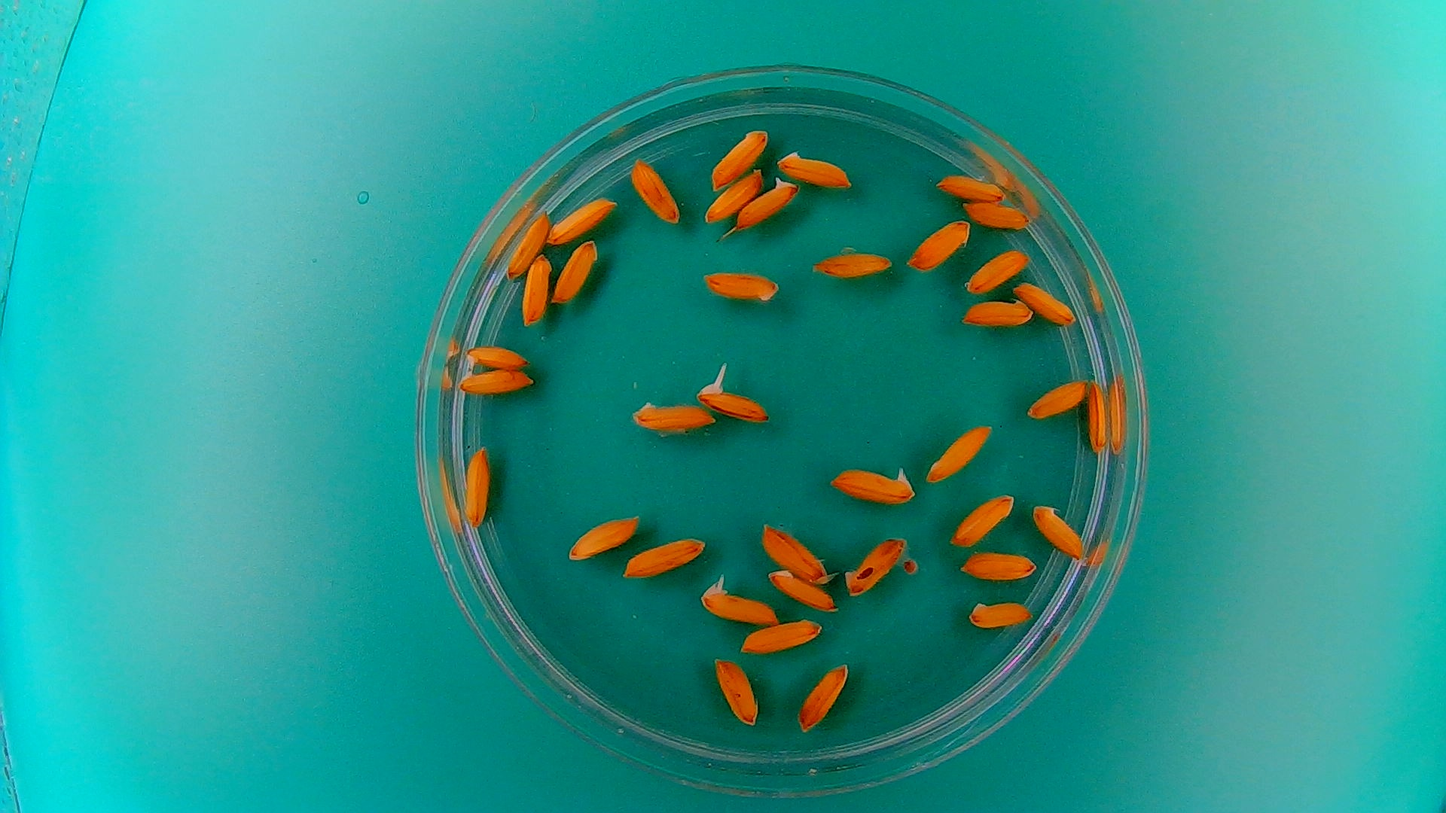no: (757, 519, 833, 583), (763, 562, 840, 620), (924, 421, 995, 483), (843, 532, 908, 598), (620, 533, 708, 580), (706, 124, 768, 190), (563, 510, 641, 562), (795, 659, 850, 732), (627, 153, 681, 226), (904, 218, 972, 275), (948, 491, 1015, 548), (545, 193, 618, 245), (701, 166, 764, 224), (712, 655, 761, 729), (1029, 500, 1089, 560), (775, 145, 855, 190), (627, 394, 716, 433), (504, 208, 551, 281), (550, 236, 601, 303), (740, 615, 825, 655), (699, 266, 782, 306), (963, 246, 1031, 294), (1011, 278, 1079, 326), (809, 244, 895, 279), (1024, 375, 1088, 422), (459, 441, 493, 529), (959, 547, 1040, 583), (518, 250, 554, 328), (453, 364, 535, 397), (933, 168, 1008, 202), (957, 296, 1034, 328), (962, 198, 1034, 231), (462, 338, 532, 370), (967, 597, 1036, 629), (1084, 376, 1111, 455)
yes: (696, 573, 779, 626), (825, 460, 918, 505), (734, 172, 801, 231), (696, 379, 768, 425)
